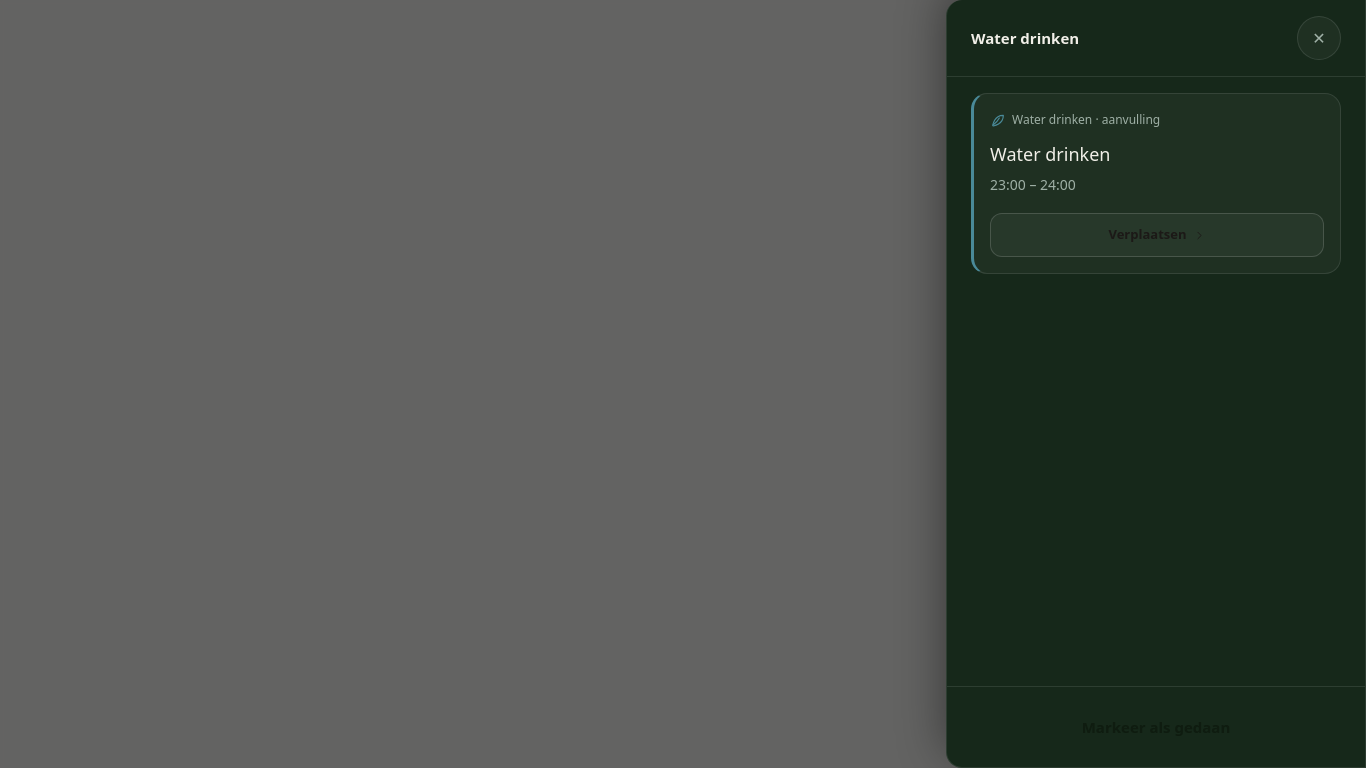
Scenario: AgendaBlockDetailSheet — foutpad bij mislukte mutaties (B2/B4) › stale foutmelding verdwijnt zodra de gebruiker de tijd corrigeert
What coordinates should you click on to do the following:
click the button "Verplaatsen"
I would click on:
 (1157, 235)
Its box is [990,213,1324,257].
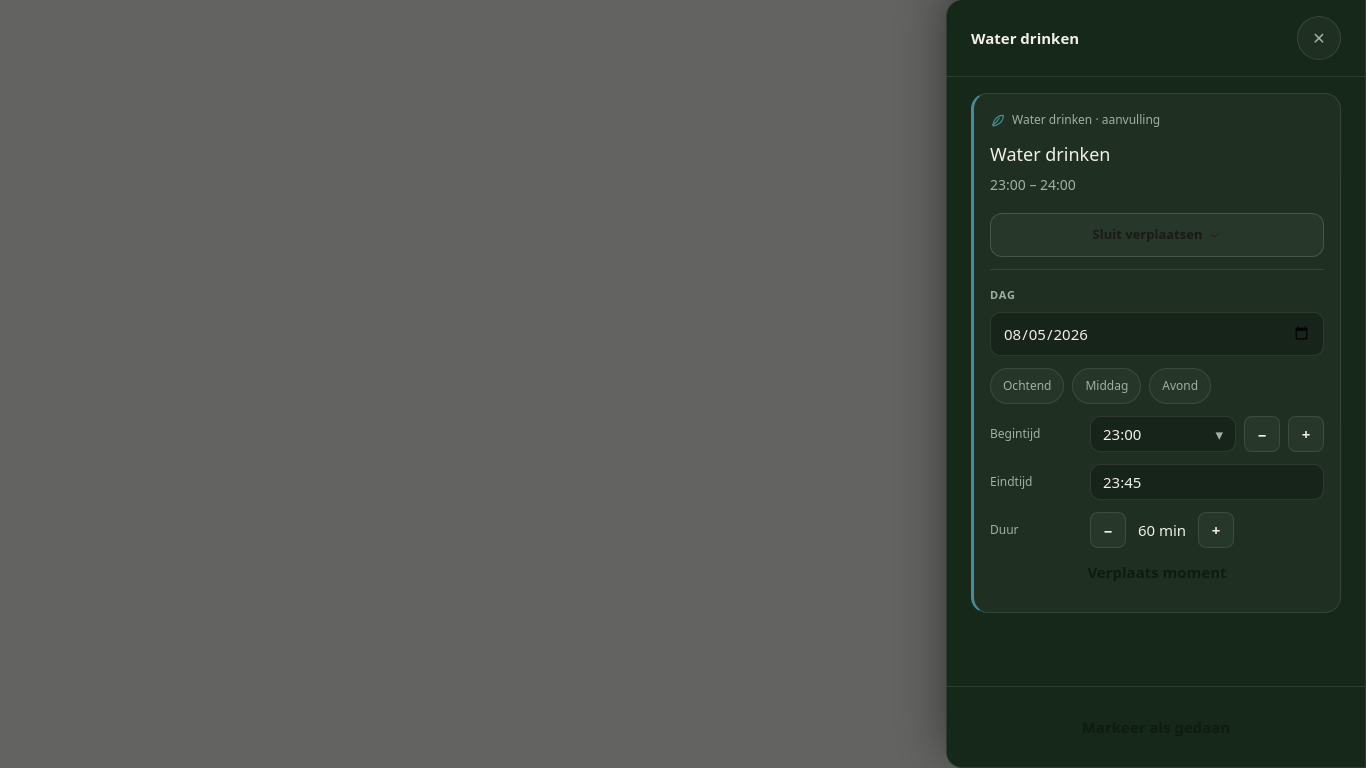
What coordinates should you click on to do the following:
click the button "Verplaats moment"
I would click on:
 (1157, 572)
Its box is [990,548,1324,596].
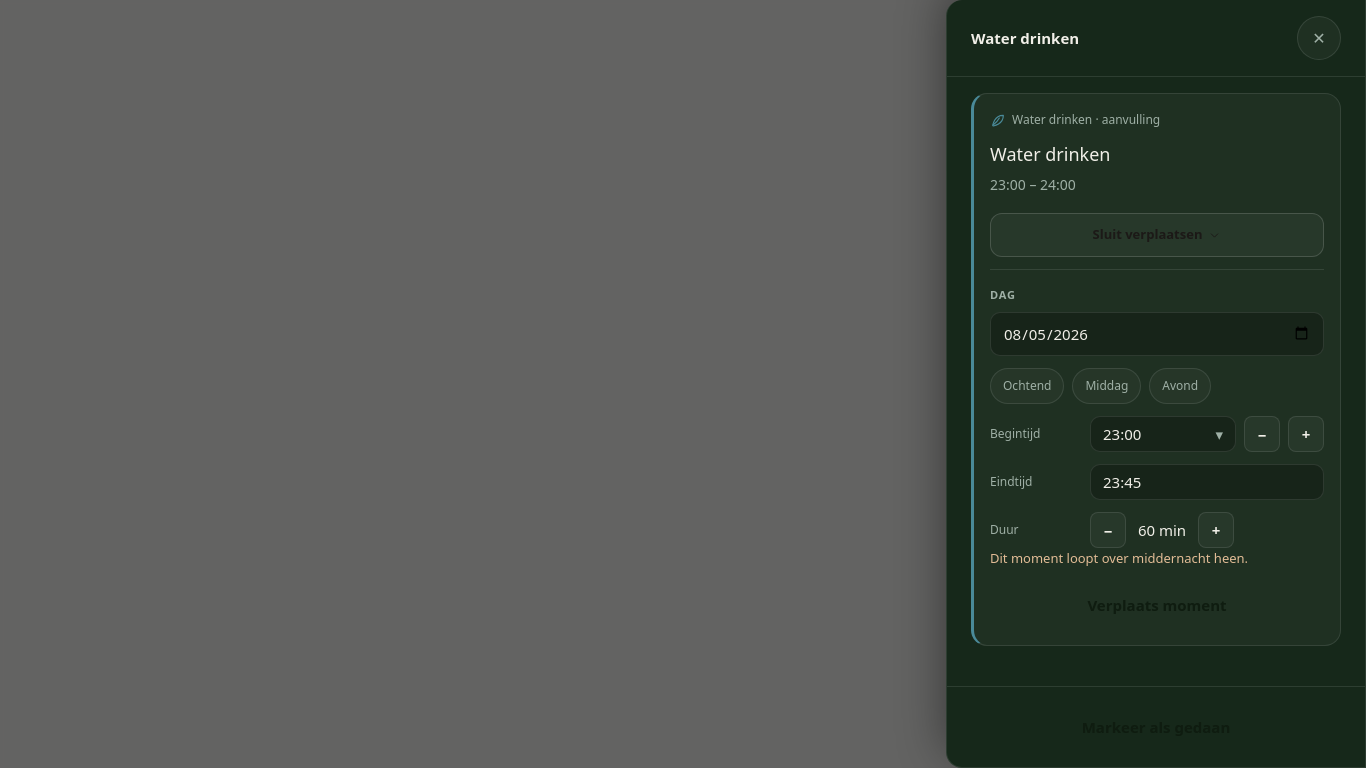
Check: the text "Dit moment loopt over middernacht heen." is shown, box [990,549,1248,567]
What coordinates should you click on to do the following:
click the button "Ochtend"
I would click on:
 (1027, 386)
Its box is [990,368,1064,404].
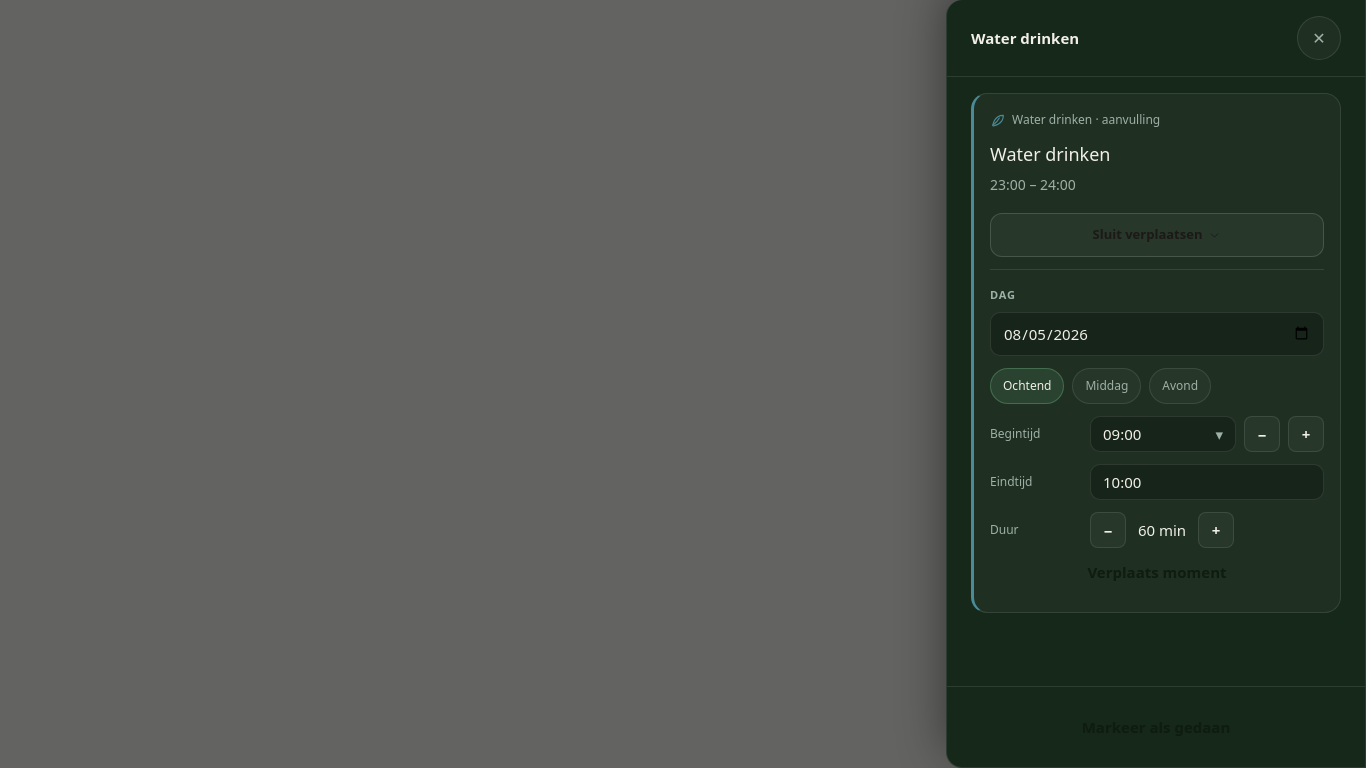
Check: the text "Dit moment loopt over middernacht heen." is gone
